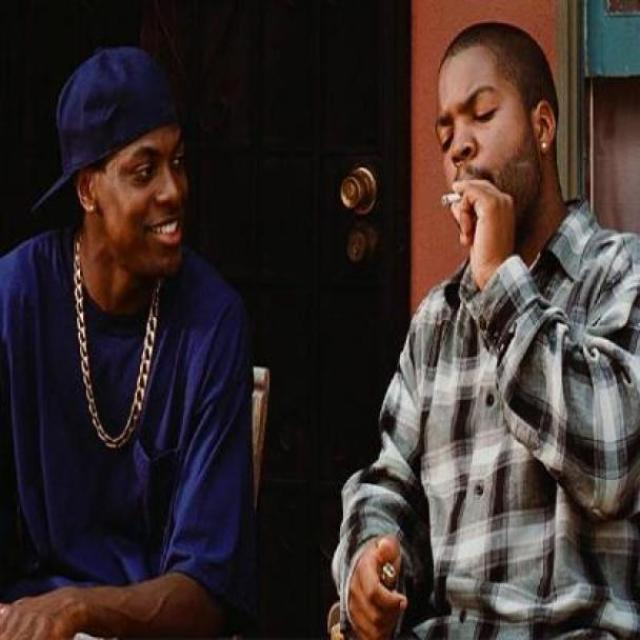rokok: (434, 178, 484, 214)
